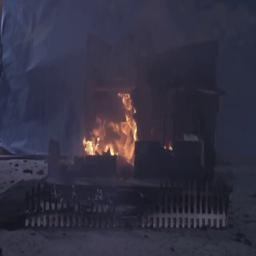fire: (83, 92, 140, 164)
